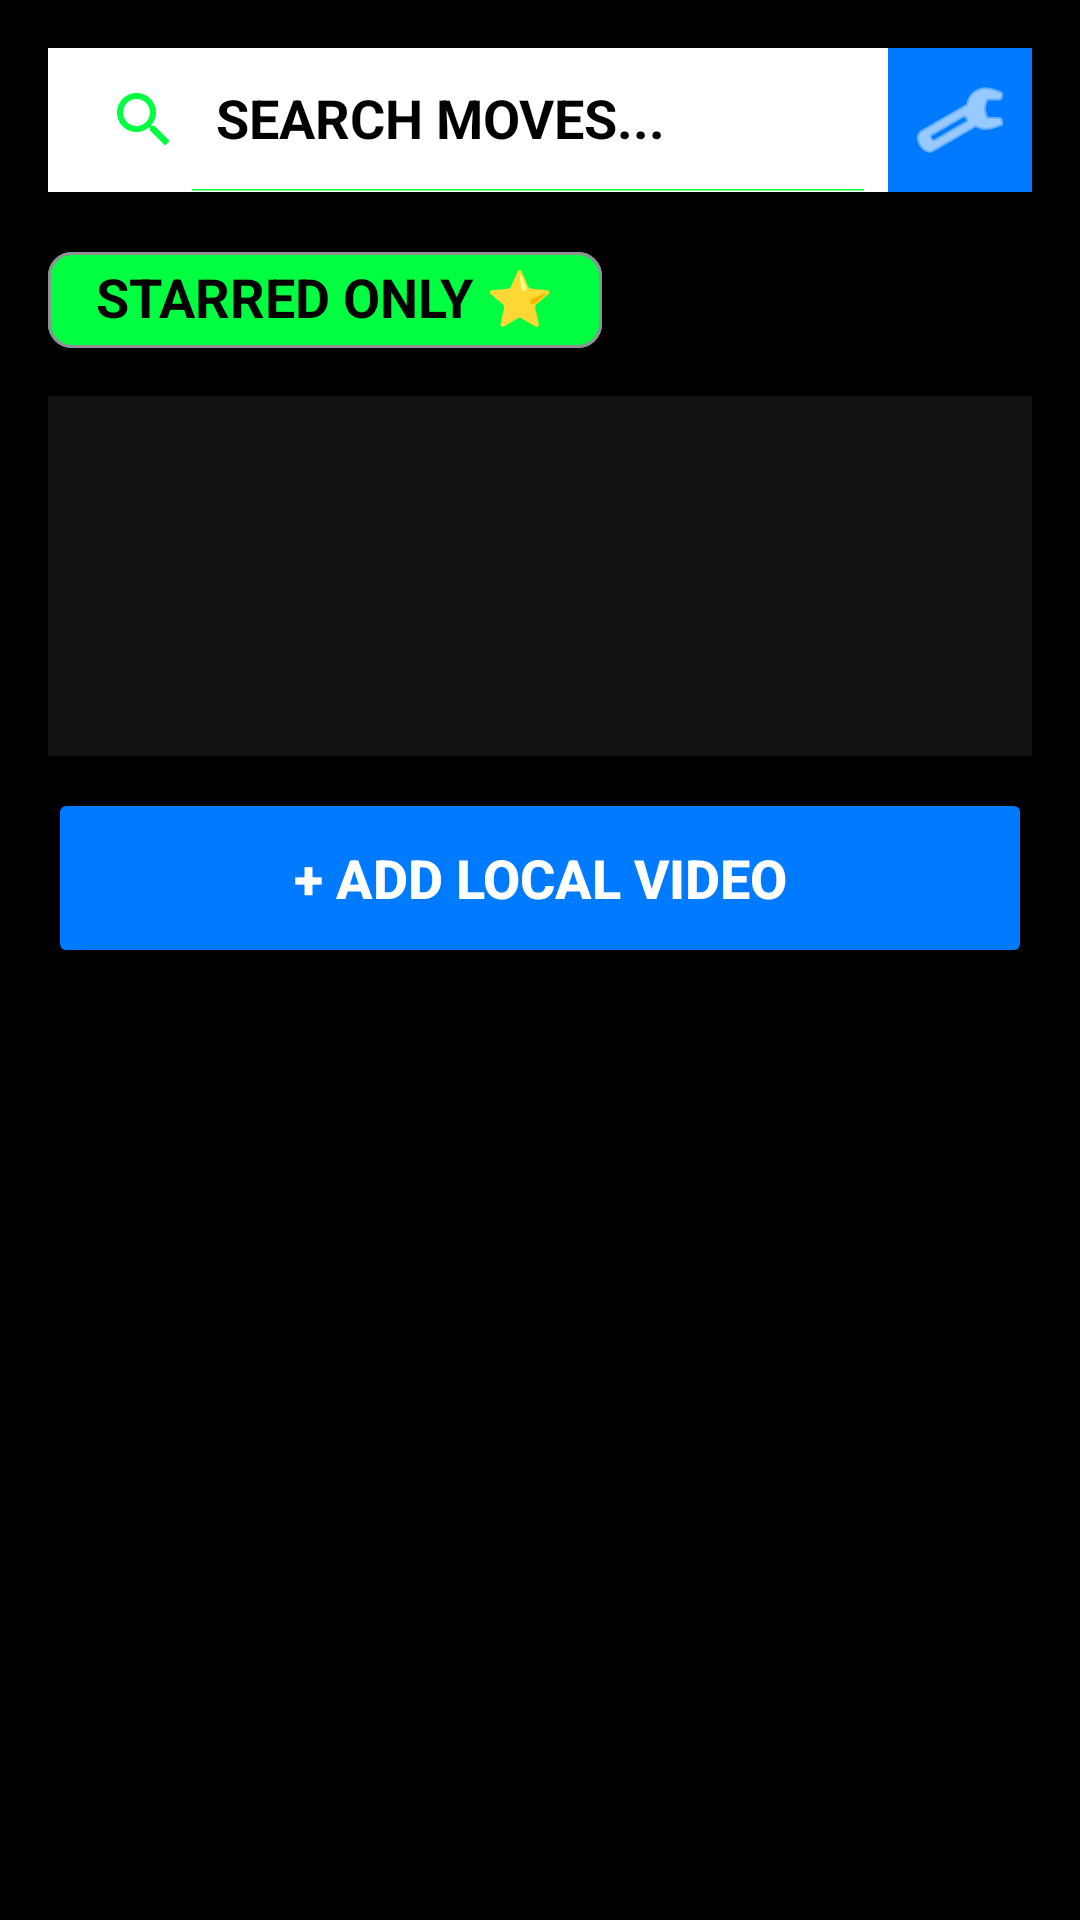

Icons on this 1080x1920 Android screen, each with its box as (x1, y1, x2, y2):
preferences: (888, 48, 1032, 192)
